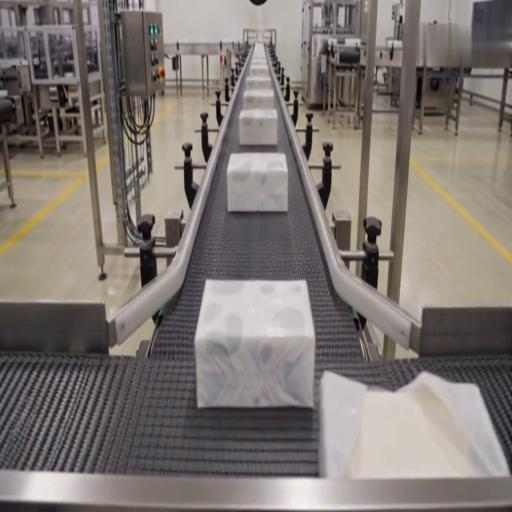defective: (318, 368, 508, 482)
good: (196, 277, 315, 409), (226, 152, 289, 214), (238, 108, 278, 148), (243, 87, 274, 111), (245, 70, 272, 92), (248, 56, 270, 70), (249, 44, 268, 59)
